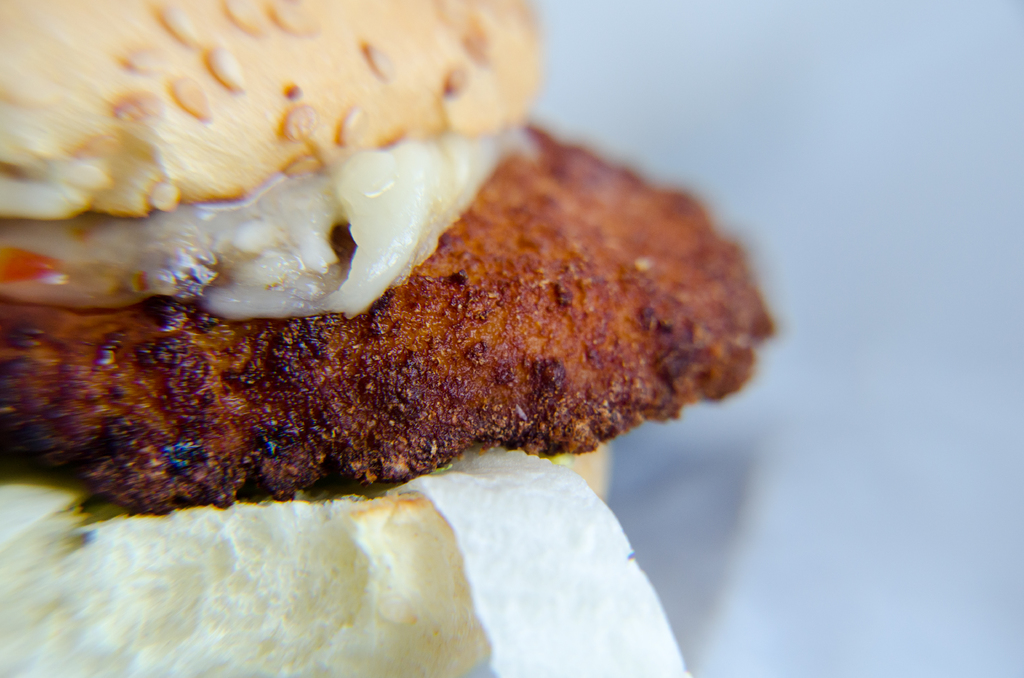Hamburger: (0, 0, 772, 677)
